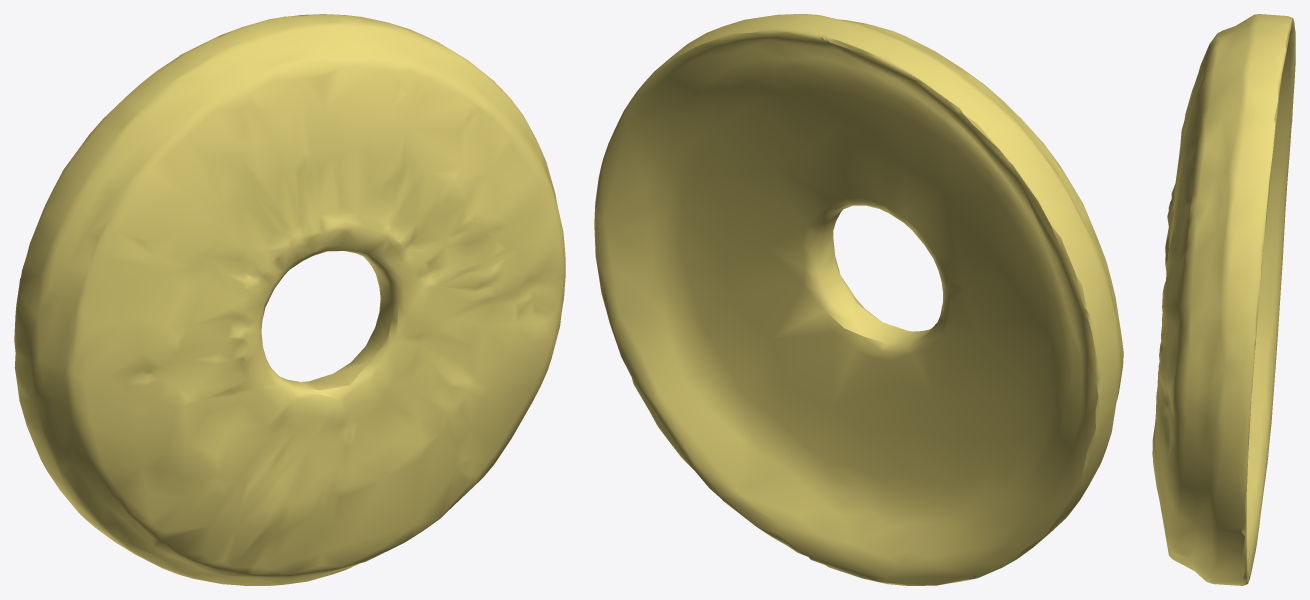
The model's file is iris-r.glb.
3 renders of one model, left to right at view 1: azimuth 30°, elevation 25°; view 2: azimuth 150°, elevation 25°; view 3: azimuth 270°, elevation 25°, orthographic. The views are drawn at different scales.
Parts seen in each view (by area): view 1: Iris.r; view 2: Iris.r; view 3: Iris.r.
Part boxes in pixels (bbox=[...]): Iris.r: bbox=[14, 14, 565, 585]; Iris.r: bbox=[594, 14, 1123, 585]; Iris.r: bbox=[1152, 14, 1295, 585].
Size of the model in its own units: 0.0129 by 0.0129 by 0.00322.
